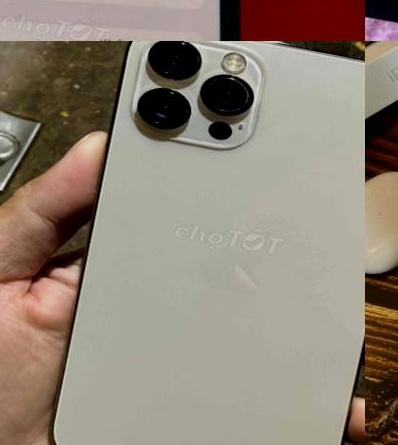physical_damage: (372, 0, 398, 14), (365, 0, 381, 12)
